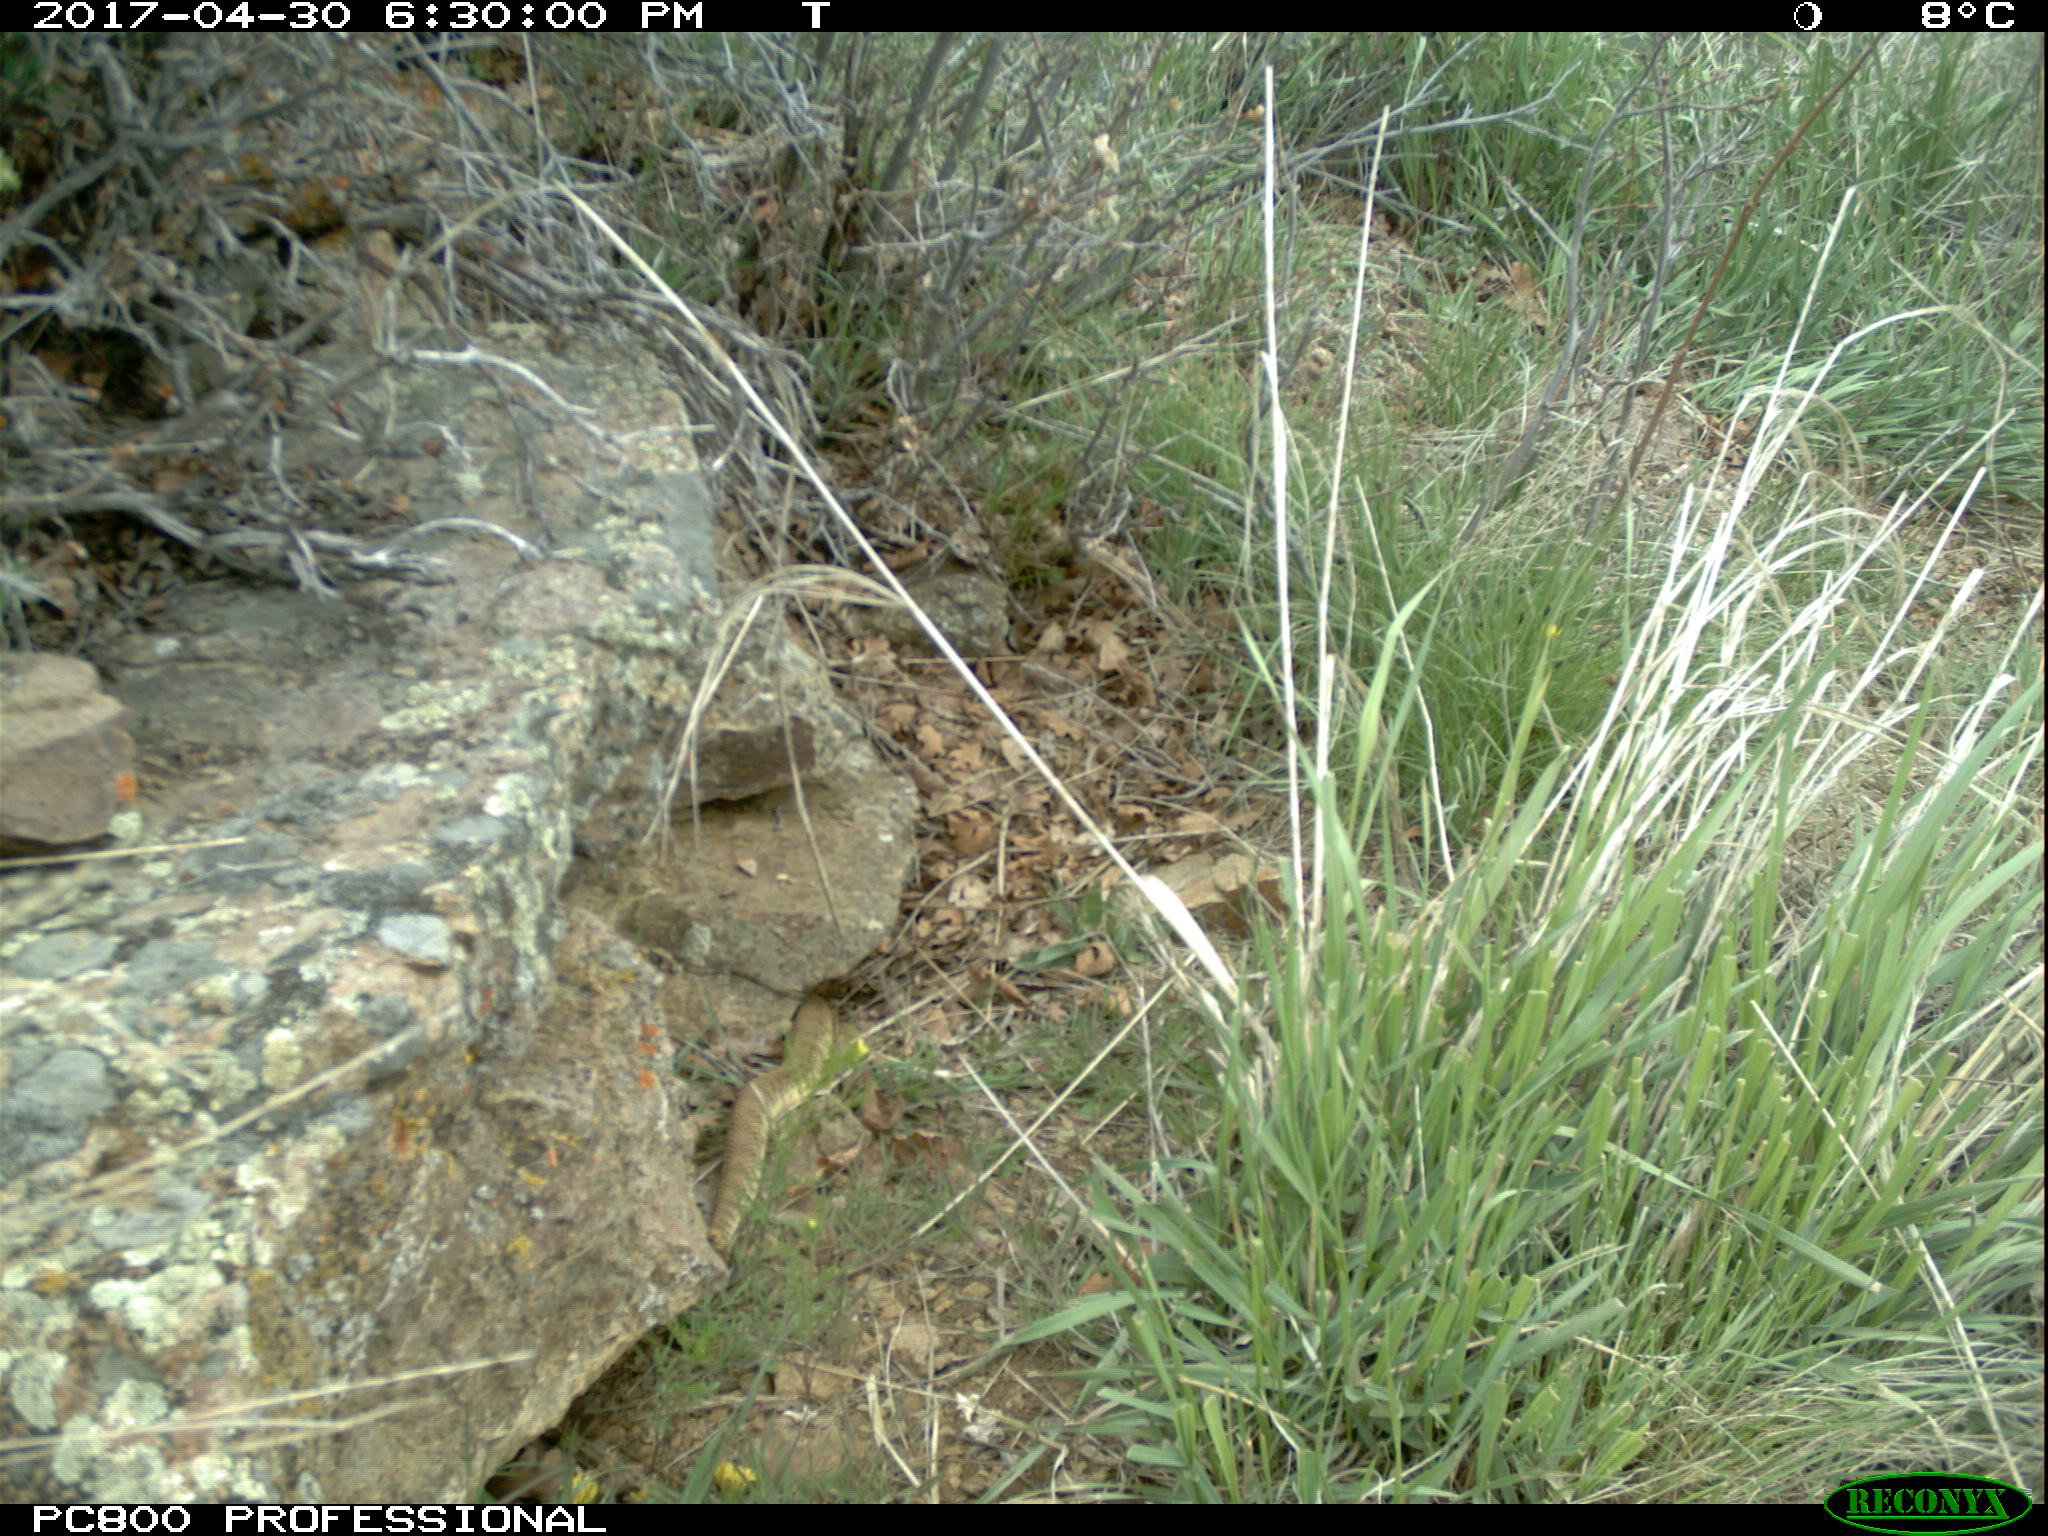snake: (706, 994, 855, 1255)
